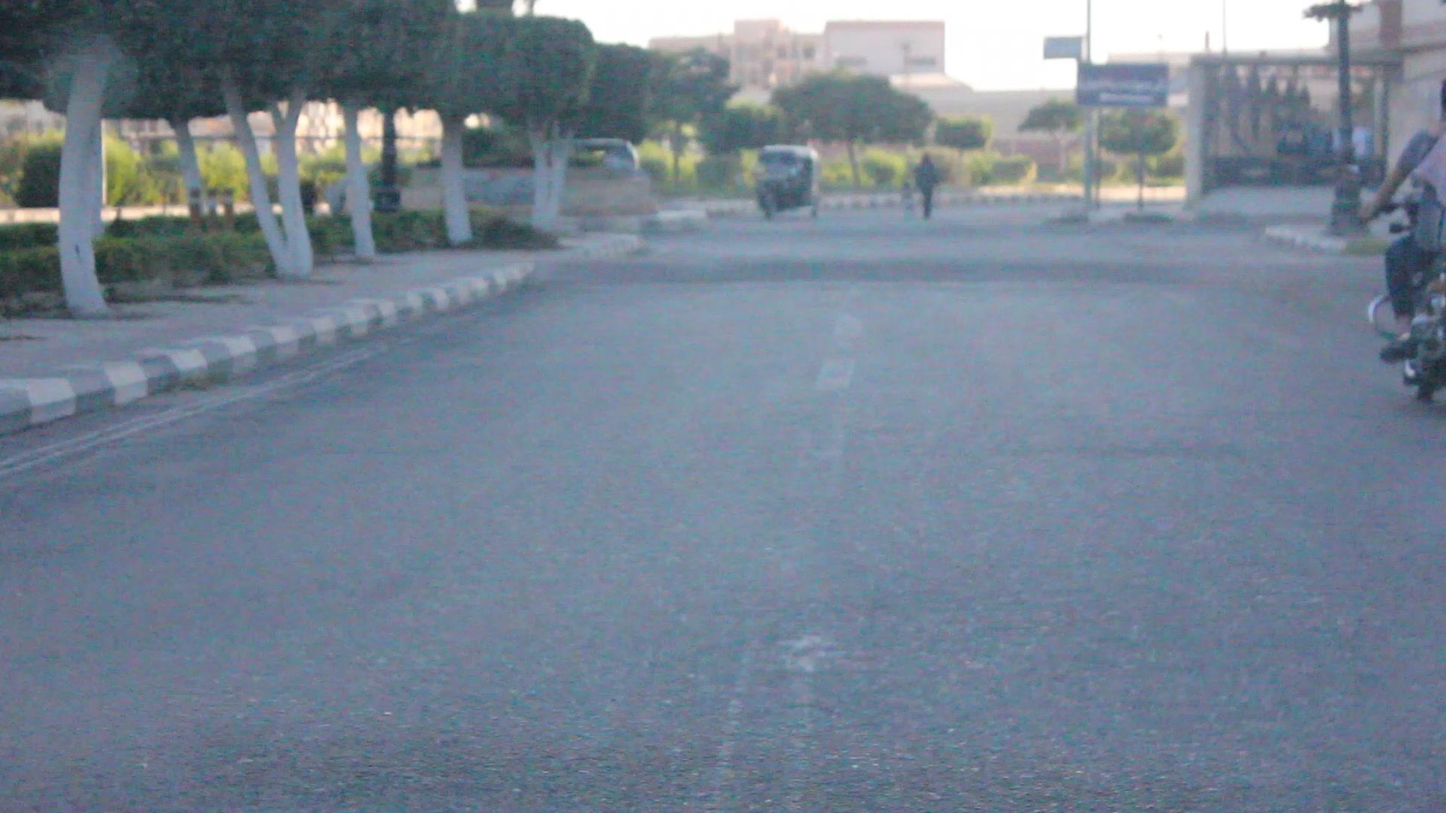Bump: (565, 235, 1326, 297)
